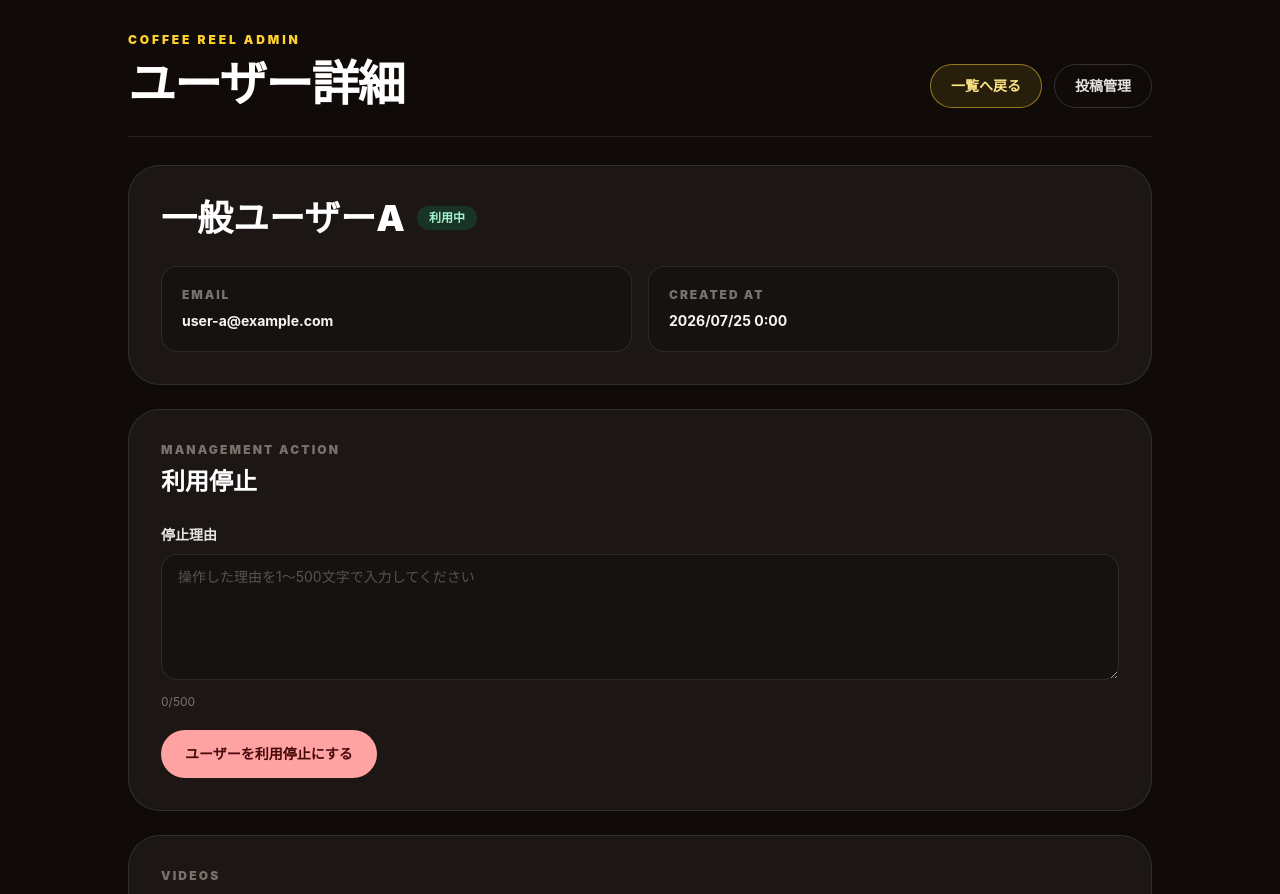
AdminUserDetailPage › 409 Conflictなら競合を表示し、最新詳細を再取得する
expect the heading "一般ユーザーA" is shown: met, box [161,198,405,238]
Type "重複操作の確認" into the text box labelled "停止理由" at (640, 617), box [161,554,1119,680]
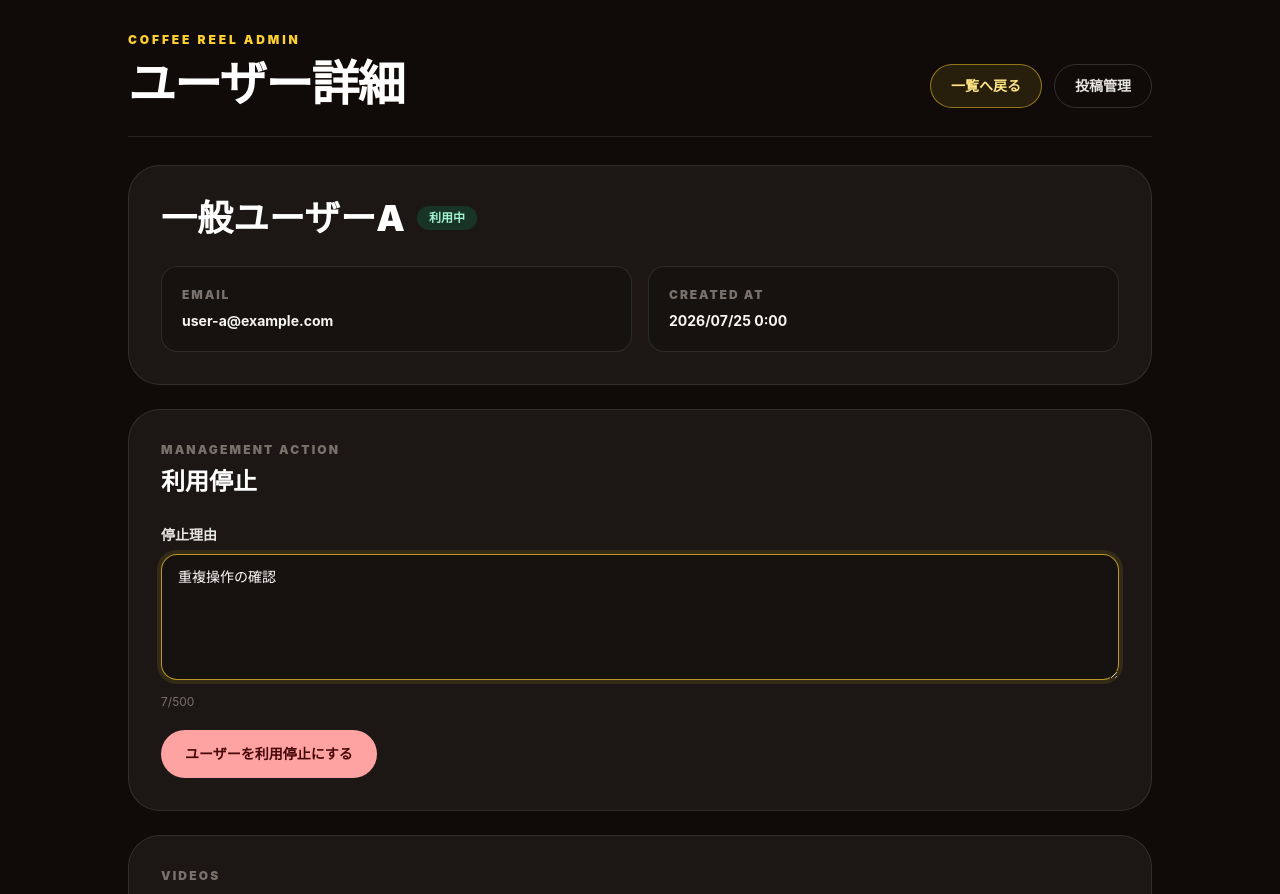
Click the button "ユーザーを利用停止にする" at (269, 754), box [161,730,377,778]
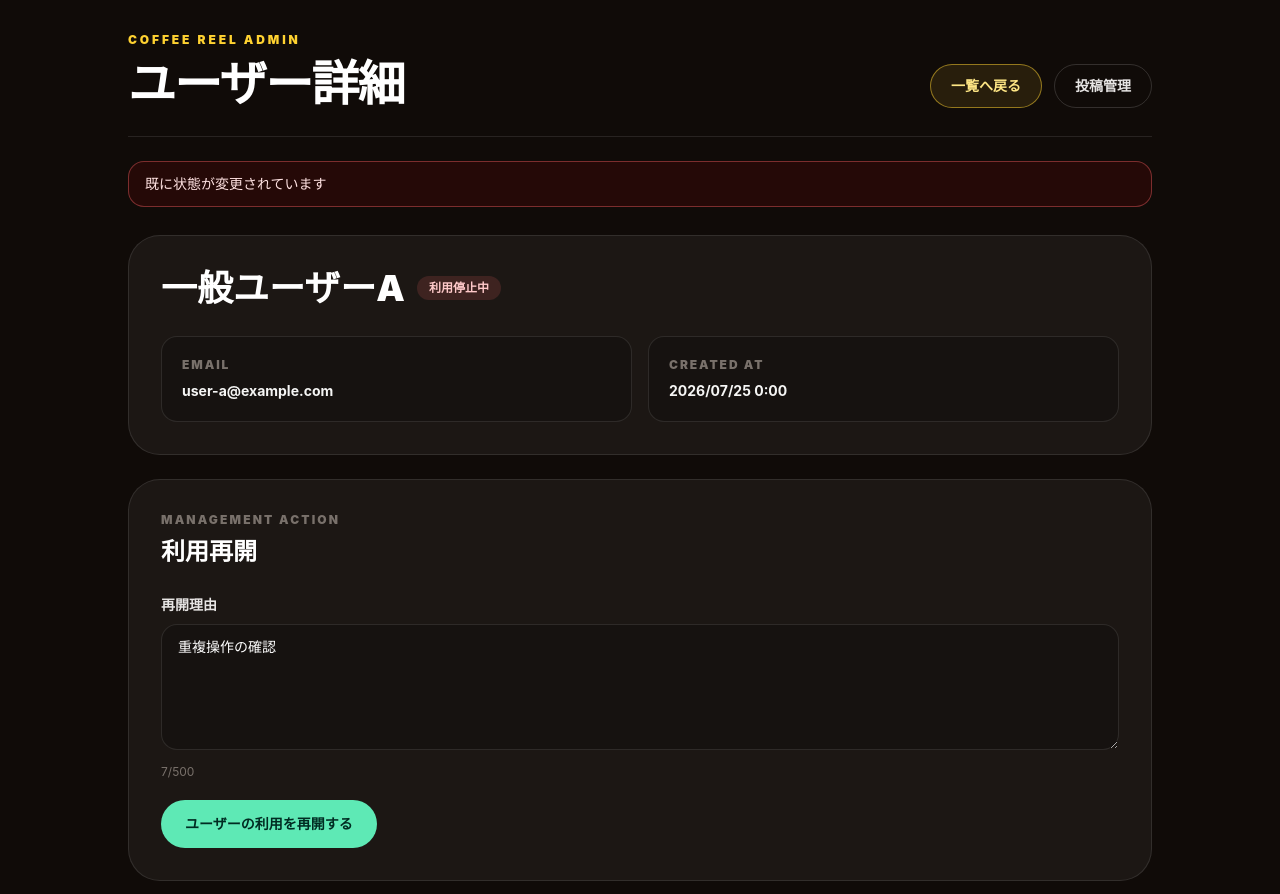
expect the message reads "既に状態が変更されています": met, box [145,175,327,192]
expect the text "利用停止中" is shown: met, box [417,276,501,300]
